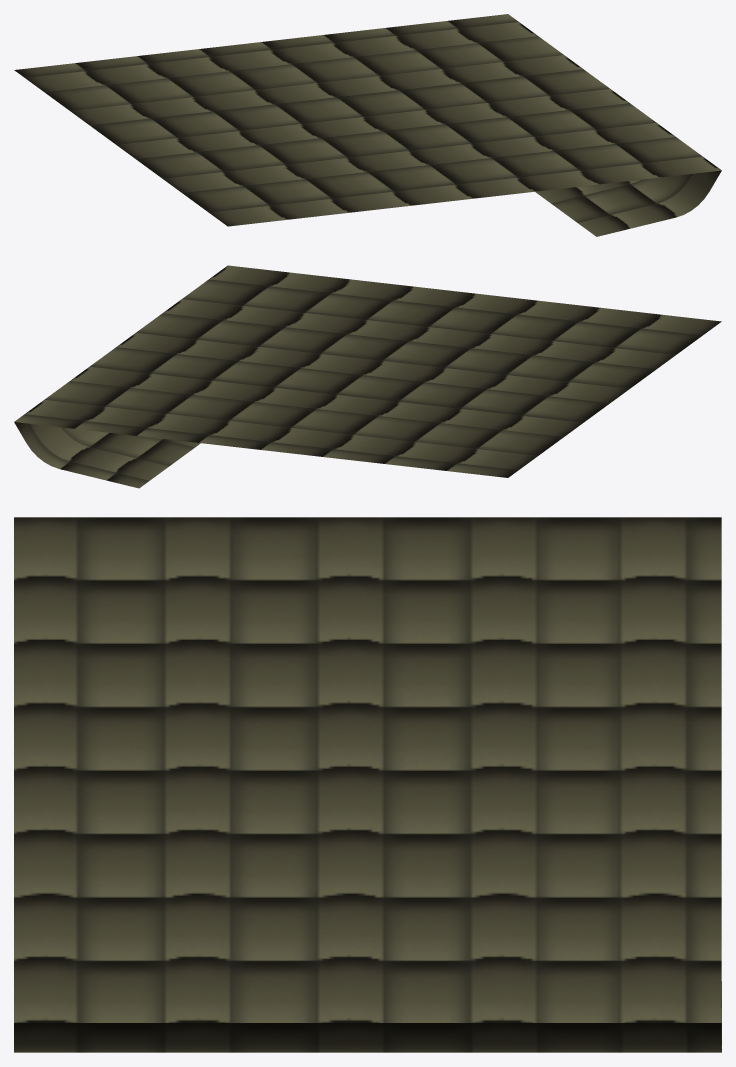
File: NNJ0510059.fbx
The picture shows the model from 3 angles, top to bottom: view 1: azimuth 30°, elevation 25°; view 2: azimuth 150°, elevation 25°; view 3: azimuth 270°, elevation 25°; orthographic projection. The views are drawn at different scales.
Parts seen in each view (by area): view 1: smNNJ0510059; view 2: smNNJ0510059; view 3: smNNJ0510059.
Boxes of the visible parts, <box> form: smNNJ0510059: <box>14,14,721,236</box>; smNNJ0510059: <box>14,265,721,488</box>; smNNJ0510059: <box>14,517,721,1052</box>.
Bounding box in the file's own units: 369 × 71.53 × 276.
Materials: 1 (1 with a texture image).
